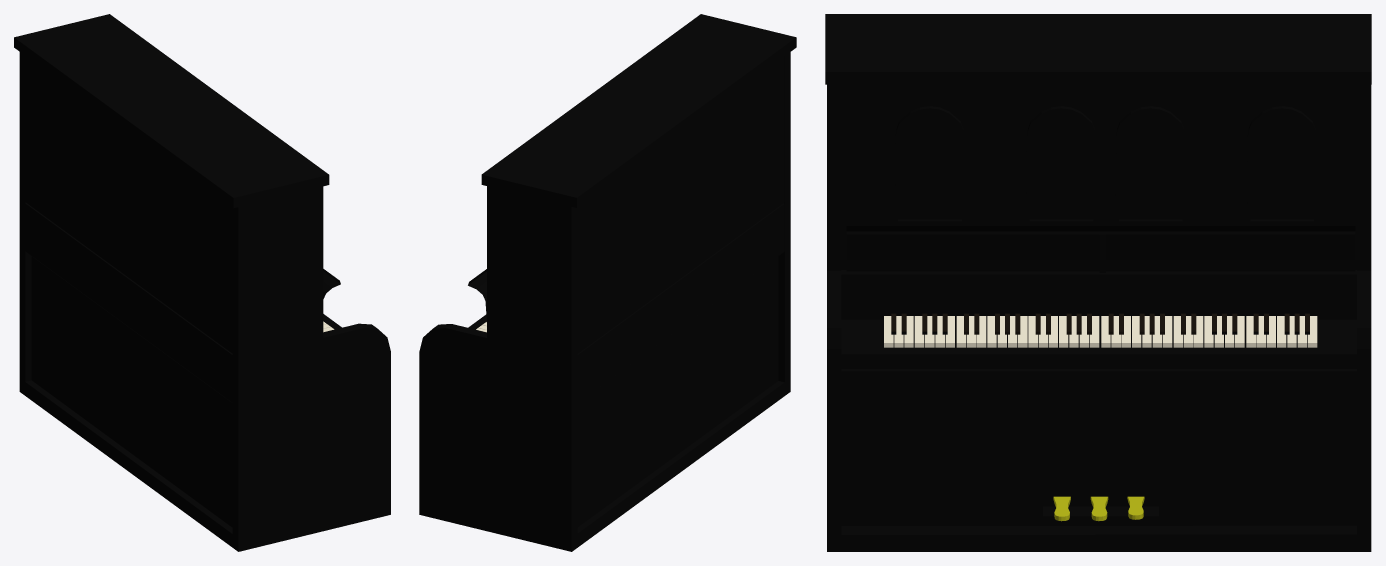
Rendered from Piano.glb.
3 views of the same model, side by side, from view 1: azimuth 30°, elevation 25°; view 2: azimuth 150°, elevation 25°; view 3: azimuth 270°, elevation 25° (orthographic). The views are drawn at different scales.
Visible parts, largest first — view 1: PianoMain.001; view 2: PianoMain.001; view 3: PianoMain.001.
Part boxes in pixels (x1=…): PianoMain.001: x1=14, y1=14, x2=390, y2=551; PianoMain.001: x1=419, y1=14, x2=796, y2=551; PianoMain.001: x1=825, y1=14, x2=1371, y2=551.
Bounding box in the file's own units: 1.41 × 2.84 × 3.17.
4 materials, 1 textured.
